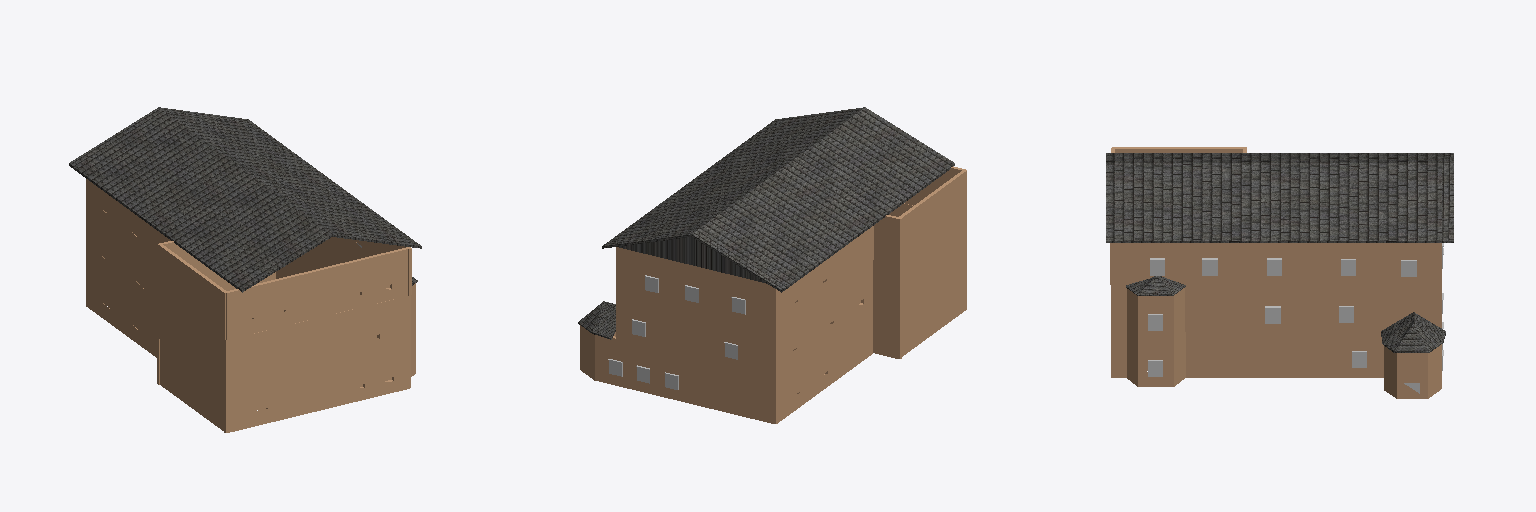
3 views of the same model, side by side, from view 1: azimuth 30°, elevation 25°; view 2: azimuth 150°, elevation 25°; view 3: azimuth 270°, elevation 25° (orthographic).
Parts seen in each view (by area): view 1: Cube.007_Cube.018, Cube.099_Cube.120, Cube.075_Cube.099, Cube.096_Cube.112, Cube.098_Cube.077, Cube.078_Cube.102, Cube.097_Cube.117, Cube.080_Cube.059, Cube.050_Cube.033, Cube.102_Cube.122, Cube.086_Cube.105, Cube.101_Cube.121 (+1 smaller); view 2: Cube.007_Cube.018, Cube.054_Cube.091, Cube.083_Cube.104, Cube.107_Cube.123, Cube.078_Cube.102, Cube.097_Cube.117, Cube.102_Cube.122, Cube.098_Cube.077, Cube.080_Cube.059, Cube.050_Cube.033, Cube.053_Cube.087, Cube.061_Cube.088 (+3 smaller); view 3: Cube.007_Cube.018, Cube.101_Cube.121, Cube.086_Cube.105, Cube.077_Cube.101, Cube.001, Cube.060_Cube.095, Cube.095_Cube.110, Cube.073_Cube.098, Cube.002, Cube.098_Cube.077, Cube.059_Cube.094, Cube.094_Cube.108 (+3 smaller).
Boxes of the visible parts, <box> form: Cube.007_Cube.018: <box>69,107,421,292</box>; Cube.099_Cube.120: <box>226,247,407,339</box>; Cube.075_Cube.099: <box>224,342,409,432</box>; Cube.096_Cube.112: <box>225,296,409,386</box>; Cube.098_Cube.077: <box>158,243,227,339</box>; Cube.078_Cube.102: <box>86,260,156,357</box>; Cube.097_Cube.117: <box>86,213,156,310</box>; Cube.080_Cube.059: <box>159,292,224,386</box>; Cube.050_Cube.033: <box>160,340,223,430</box>; Cube.102_Cube.122: <box>86,179,170,264</box>; Cube.086_Cube.105: <box>296,239,356,270</box>; Cube.101_Cube.121: <box>330,237,411,295</box>; Cube.007_Cube.018: <box>602,107,954,292</box>; Cube.054_Cube.091: <box>595,335,772,423</box>; Cube.083_Cube.104: <box>619,293,772,377</box>; Cube.107_Cube.123: <box>619,248,772,330</box>; Cube.078_Cube.102: <box>773,307,872,423</box>; Cube.097_Cube.117: <box>773,261,872,377</box>; Cube.102_Cube.122: <box>773,226,873,330</box>; Cube.098_Cube.077: <box>897,169,966,264</box>; Cube.080_Cube.059: <box>902,218,966,311</box>; Cube.050_Cube.033: <box>902,266,964,356</box>; Cube.053_Cube.087: <box>873,306,901,358</box>; Cube.061_Cube.088: <box>873,260,901,312</box>; Cube.007_Cube.018: <box>1106,153,1453,242</box>; Cube.101_Cube.121: <box>1110,243,1441,284</box>; Cube.086_Cube.105: <box>1185,285,1441,331</box>; Cube.077_Cube.101: <box>1186,331,1383,377</box>; Cube.001: <box>1381,312,1445,352</box>; Cube.060_Cube.095: <box>1138,340,1173,386</box>; Cube.095_Cube.110: <box>1138,296,1173,340</box>; Cube.073_Cube.098: <box>1397,353,1427,398</box>; Cube.002: <box>1126,276,1185,295</box>; Cube.098_Cube.077: <box>1112,147,1242,152</box>; Cube.059_Cube.094: <box>1112,331,1126,377</box>; Cube.094_Cube.108: <box>1112,285,1126,331</box>.
Bounding box in the file's own units: 35.51 × 25.84 × 46.29.
38 materials, 1 textured.